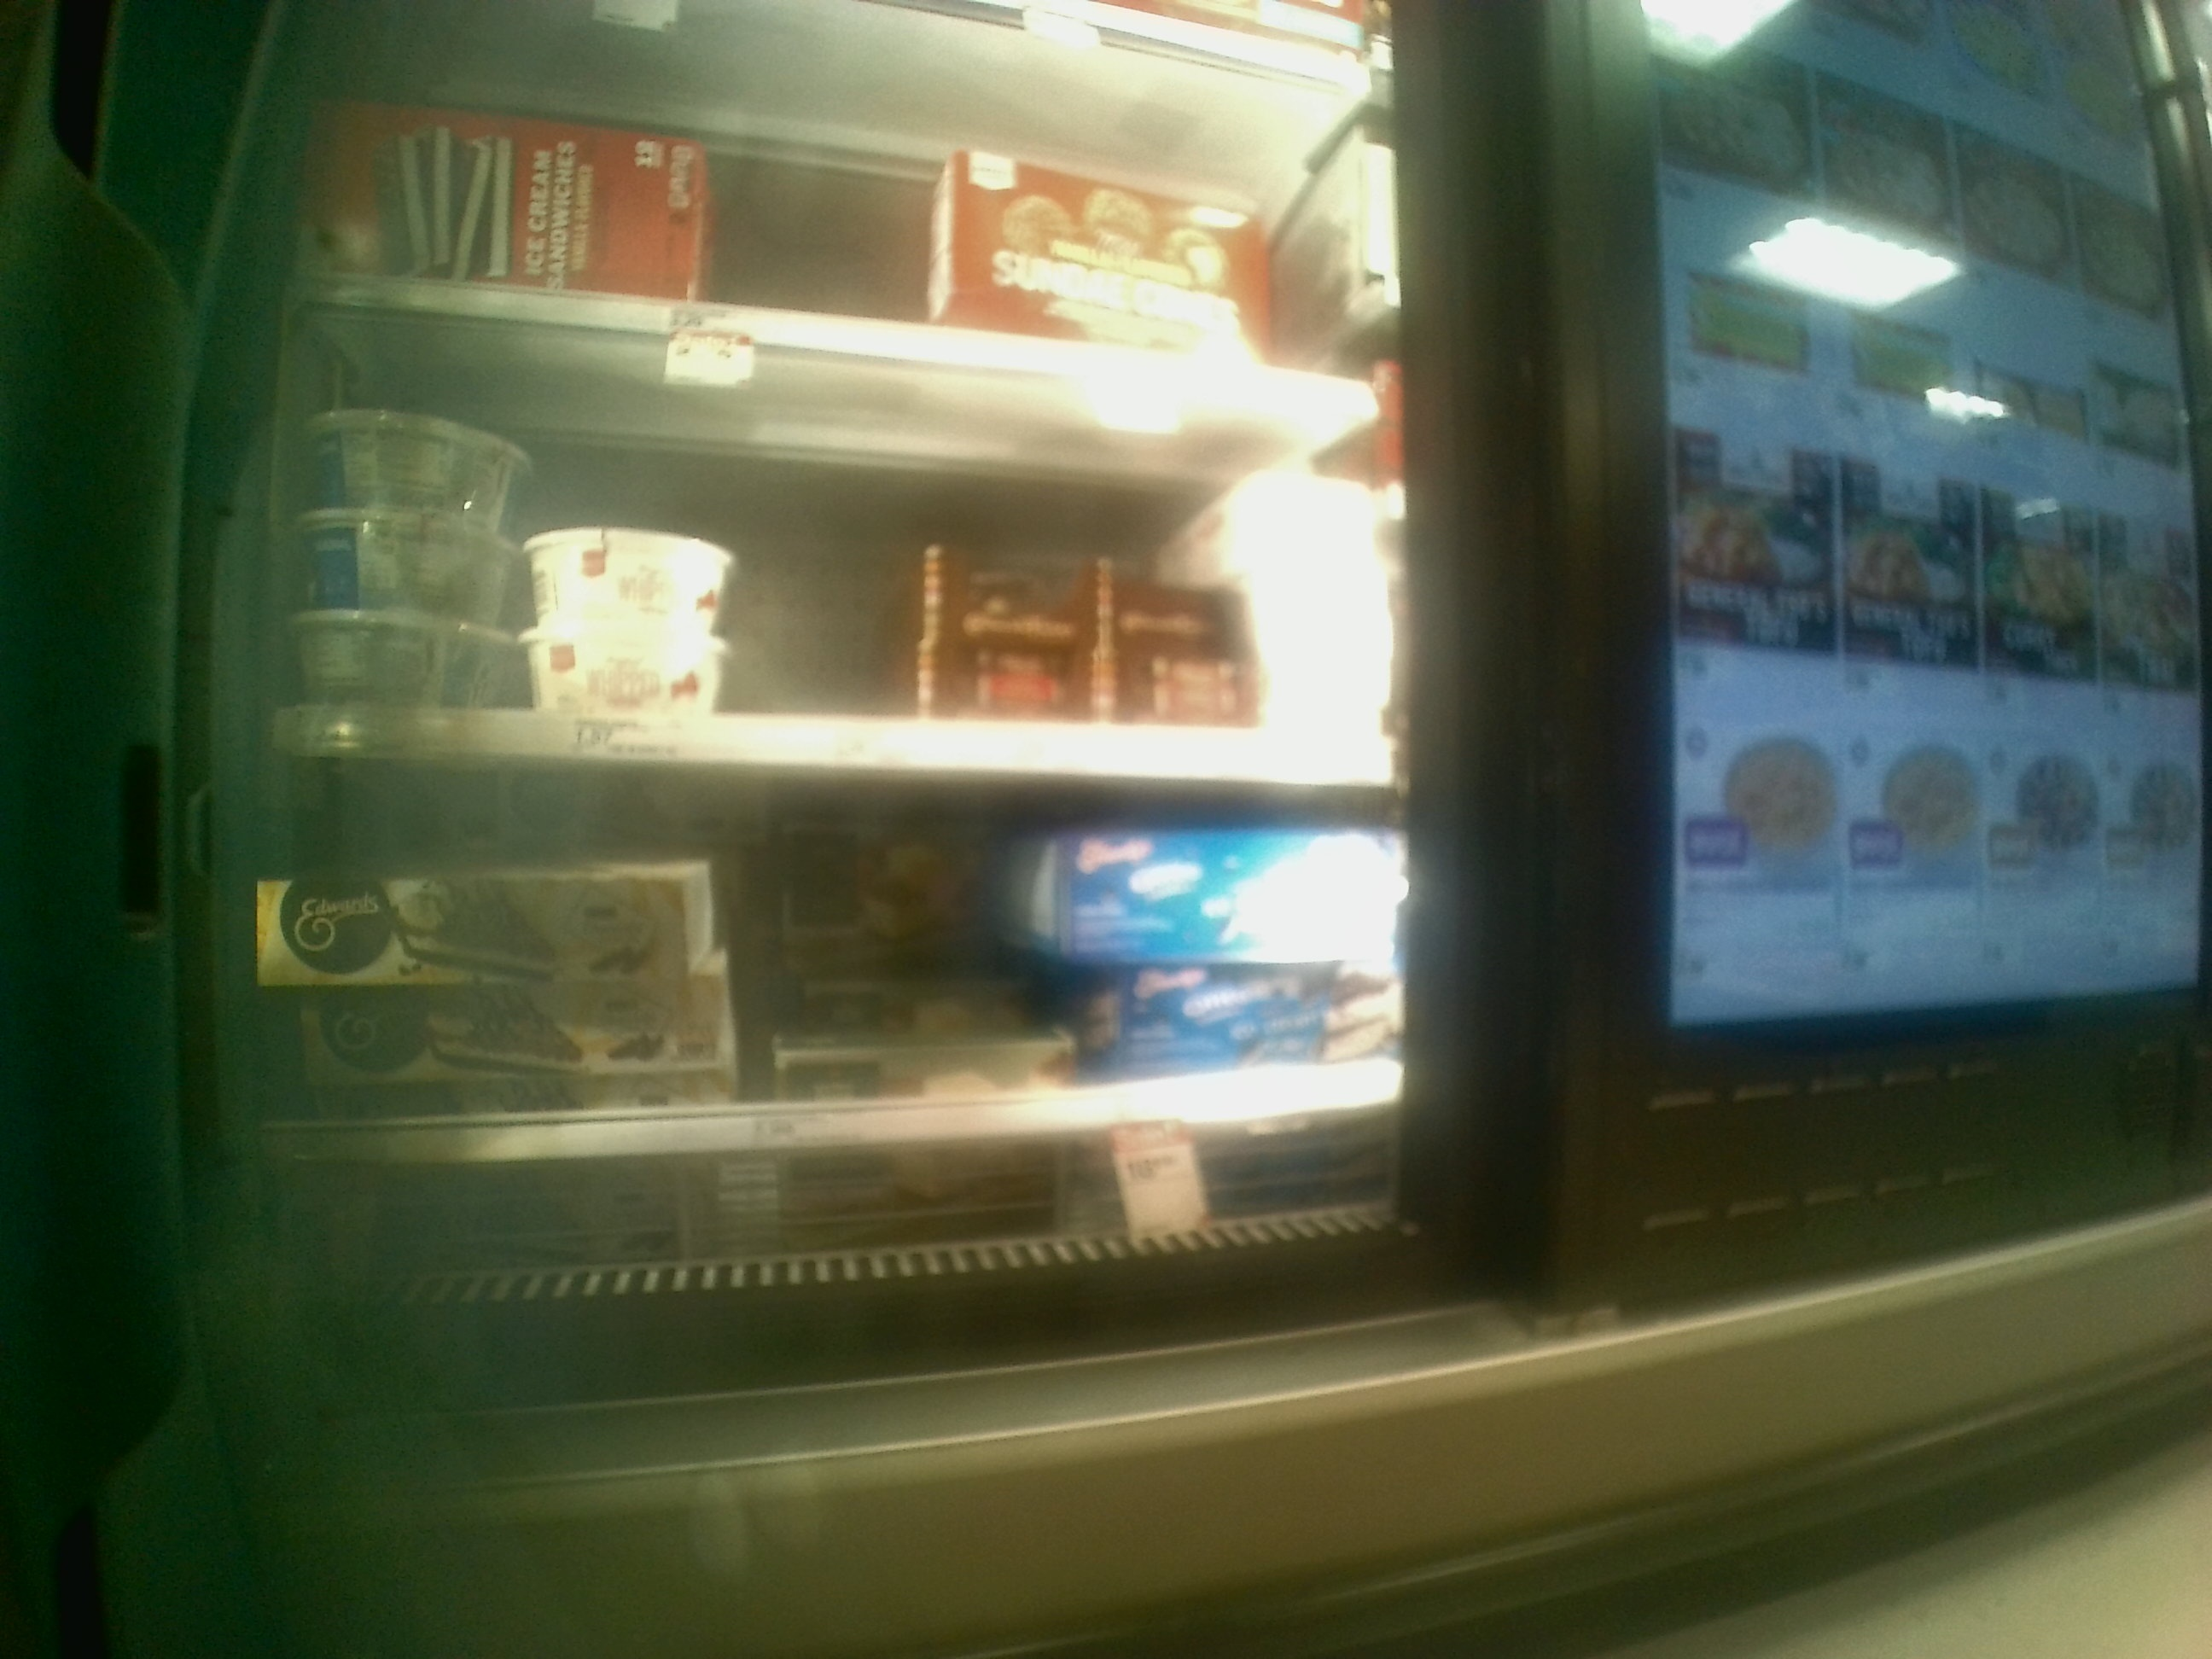frozen-food-shelf: (225, 772, 1468, 1166)
